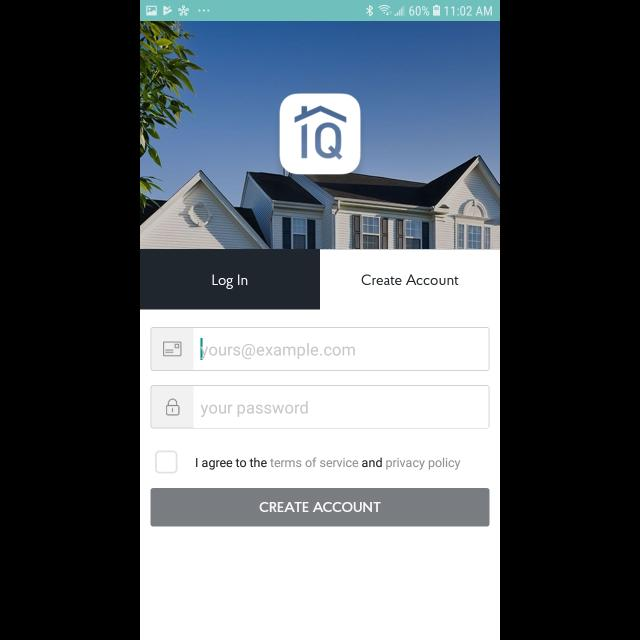checkbox: (156, 451, 177, 474)
icon: (162, 341, 182, 357), (166, 399, 180, 416)
image: (140, 22, 500, 250), (280, 94, 360, 174)
input: (150, 327, 490, 371), (151, 385, 489, 429)
text: (195, 458, 460, 470), (201, 343, 355, 359), (202, 401, 308, 417), (362, 274, 458, 286)
textbutton: (150, 488, 490, 526), (140, 250, 320, 310)
uppertaskbar: (140, 1, 500, 22)
